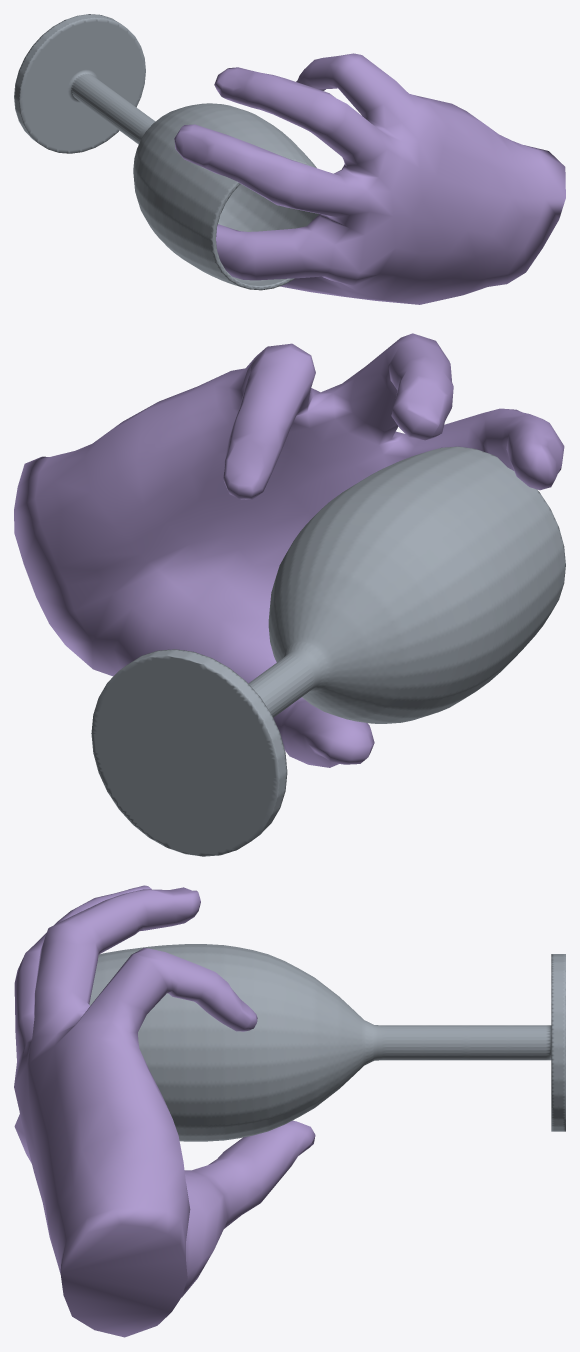
The model's file is ours_1.glb.
The picture shows the model from 3 angles, top to bottom: view 1: azimuth 30°, elevation 25°; view 2: azimuth 150°, elevation 25°; view 3: azimuth 270°, elevation 25°; orthographic projection. The views are drawn at different scales.
Bounding box in the file's own units: 0.1857 × 0.1265 × 0.1981.
